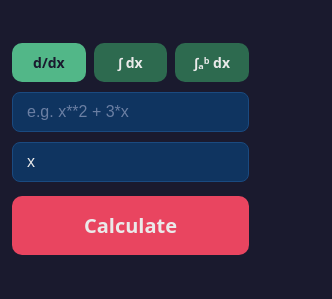
Test: CalculusPanel › shows error message in red on API failure
The image size is (332, 299).
Step 1. Type "bad_expr" into the field named "expression" → x=130, y=112, box [12,92,249,132]
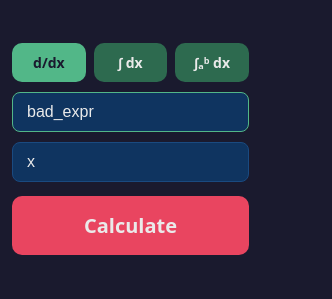
Step 2. Click the button "Calculate" → x=130, y=226, box [12,196,249,255]
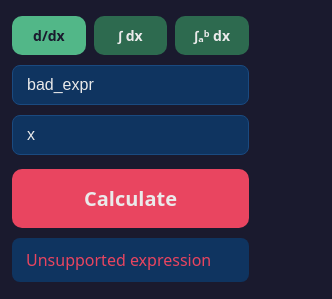
Result: the text "Unsupported expression" is shown at [12,238,249,282]
